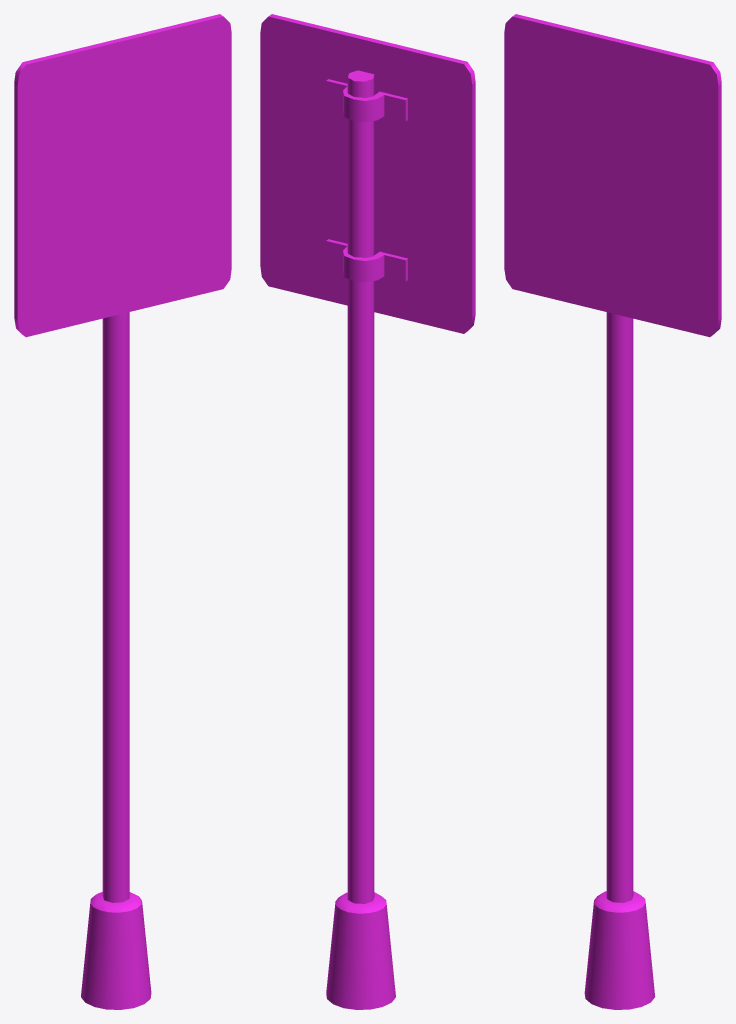
Rendered from SM_Sign_SpeedLimit.FBX.
The picture shows the model from 3 angles, left to right: view 1: azimuth 30°, elevation 25°; view 2: azimuth 150°, elevation 25°; view 3: azimuth 330°, elevation 25°; orthographic projection.
Visible parts, largest first — view 1: Sign_SpeedLimit; view 2: Sign_SpeedLimit; view 3: Sign_SpeedLimit.
Part boxes in pixels (left/top/right/bottom): Sign_SpeedLimit: left=14, top=14, right=231, bottom=1009; Sign_SpeedLimit: left=260, top=14, right=475, bottom=1009; Sign_SpeedLimit: left=504, top=14, right=721, bottom=1009.
Size of the model in its own units: 73.49 by 315 by 21.24.
